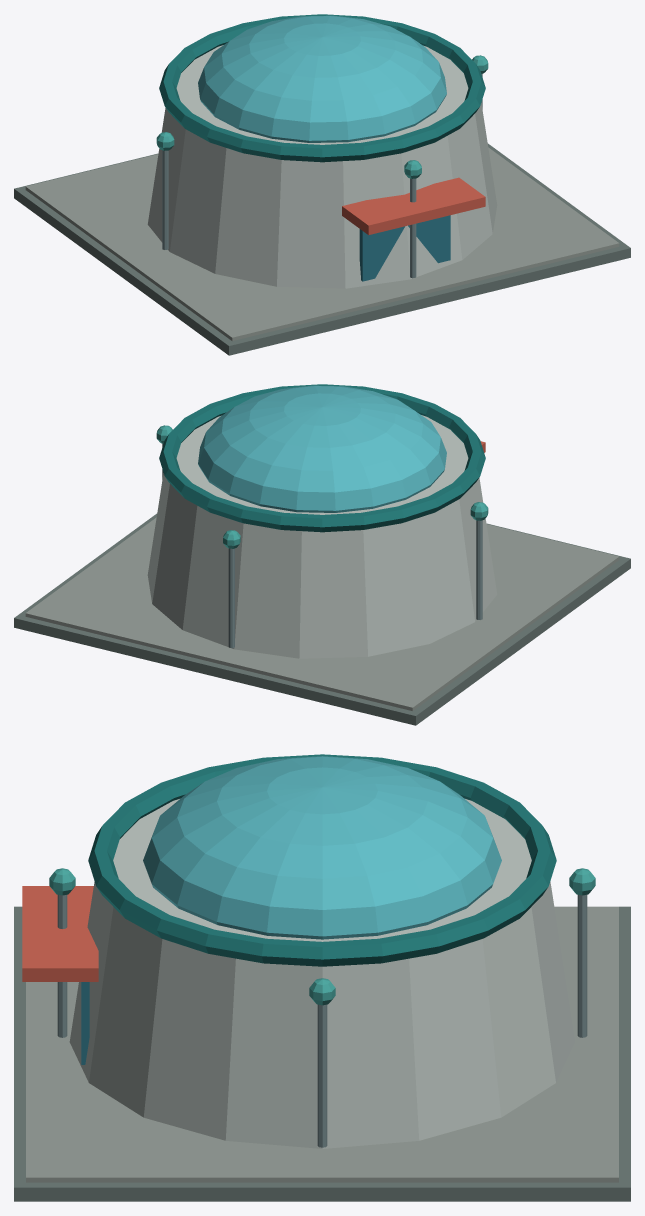
Rendered from research_lab_lv1.glb.
3 views of the same model, one above another, from view 1: azimuth 30°, elevation 25°; view 2: azimuth 150°, elevation 25°; view 3: azimuth 270°, elevation 25° (orthographic). The views are drawn at different scales.
Visible parts, largest first — view 1: rough, glossy, metallic; view 2: rough, glossy, metallic; view 3: rough, glossy, metallic.
Boxes of the visible parts, x1,y1,x2,y2 form: rough: [14, 14, 630, 355]; glossy: [198, 15, 450, 281]; metallic: [162, 74, 482, 278]; rough: [14, 384, 630, 725]; glossy: [198, 385, 446, 512]; metallic: [162, 444, 482, 648]; rough: [14, 754, 630, 1201]; glossy: [81, 756, 501, 1064]; metallic: [57, 894, 587, 1147].
Bounding box in the file's own units: 9.6 × 4.36 × 8.9.
